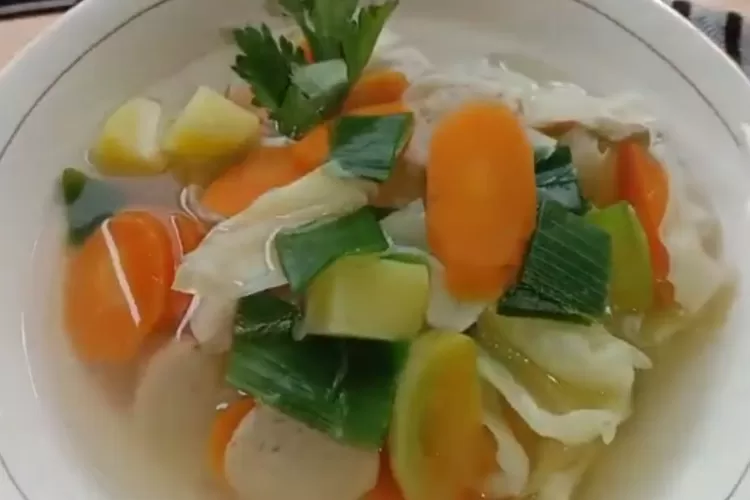buah_sayur_lainnya: (245, 266, 431, 394)
buah_sayur_vitA: (434, 109, 523, 268), (81, 233, 158, 341)
